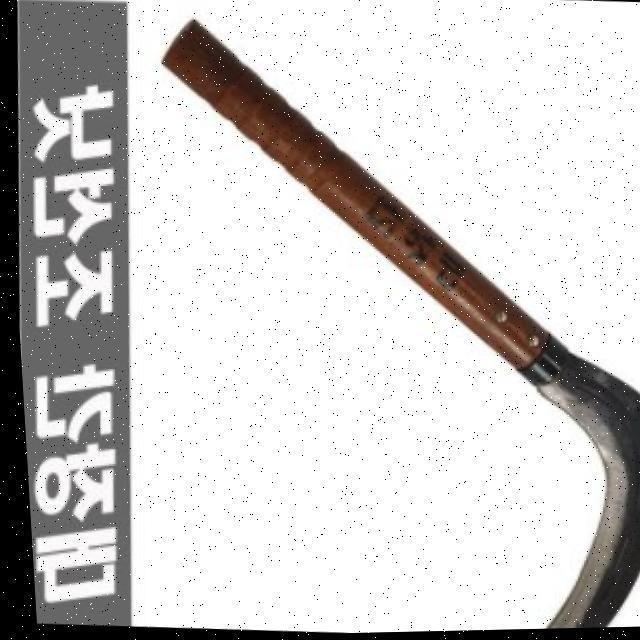sickle: (115, 15, 640, 638)
